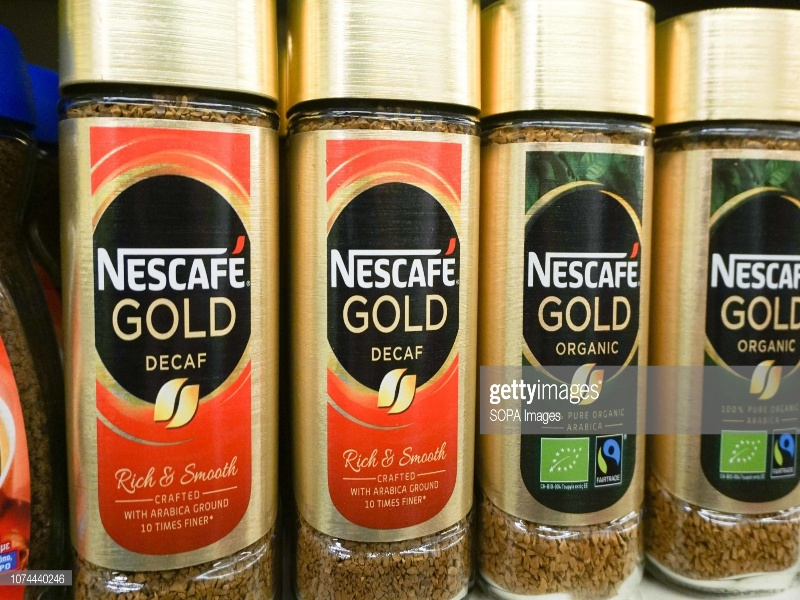nescafe-classic/gold-med: (64, 1, 285, 592), (282, 1, 484, 589), (482, 5, 650, 599), (660, 19, 800, 577)
